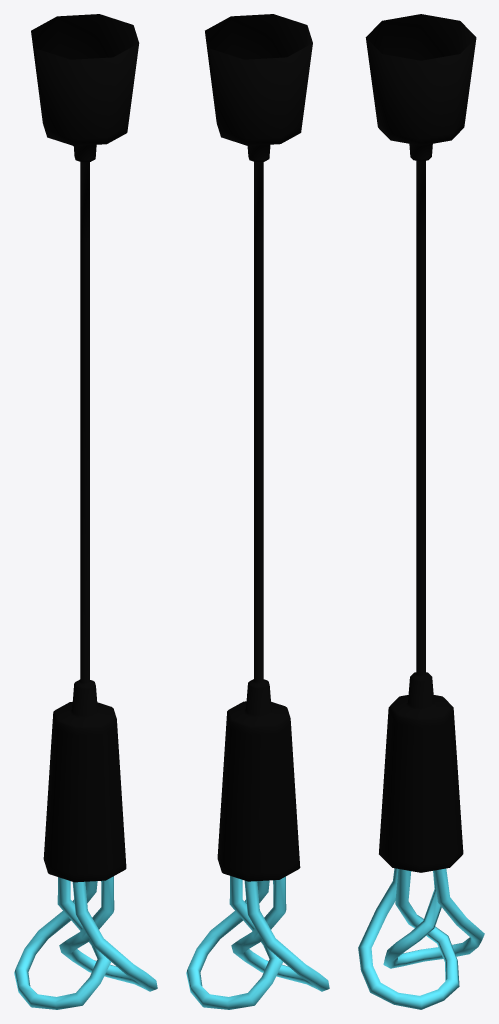
Rendered from SM_Pendantlight_007_B.FBX.
The picture shows the model from 3 angles, left to right: view 1: azimuth 30°, elevation 25°; view 2: azimuth 210°, elevation 25°; view 3: azimuth 270°, elevation 25°; orthographic projection.
Parts seen in each view (by area): view 1: SM_Pendantlight_007_B; view 2: SM_Pendantlight_007_B; view 3: SM_Pendantlight_007_B.
Boxes of the visible parts, left/top/right/bottom form: SM_Pendantlight_007_B: left=14, top=14, right=157, bottom=1009; SM_Pendantlight_007_B: left=186, top=14, right=329, bottom=1009; SM_Pendantlight_007_B: left=358, top=14, right=484, bottom=1009.
Size of the model in its own units: 13.63 by 13.67 by 113.
